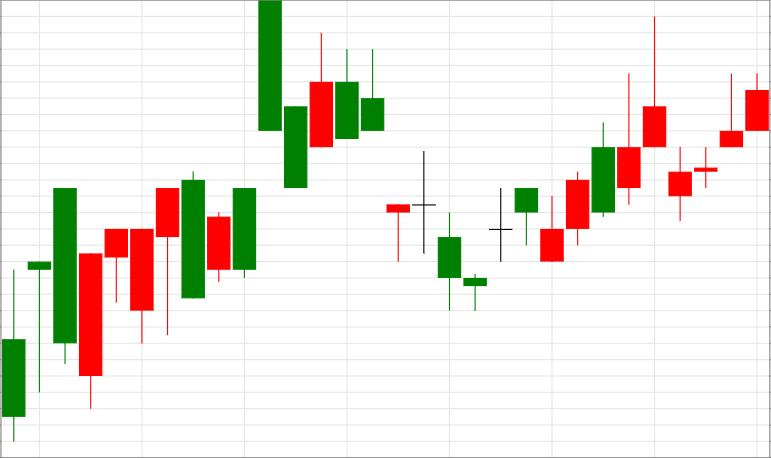hanging_man_fall: (1, 188, 179, 441)
shooting_star_fall: (463, 16, 666, 311), (464, 73, 641, 311)
